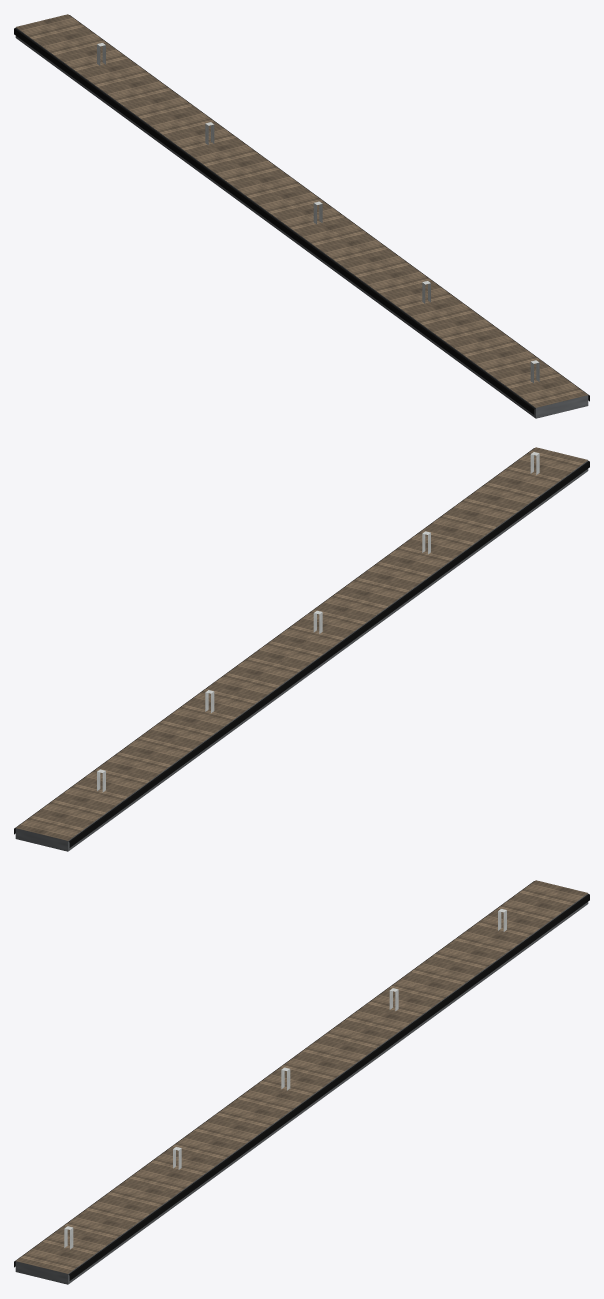
File: SM_Mirabello_Pontile_Col_LOD2.fbx
The picture shows the model from 3 angles, top to bottom: view 1: azimuth 30°, elevation 25°; view 2: azimuth 150°, elevation 25°; view 3: azimuth 330°, elevation 25°; orthographic projection.
Visible parts, largest first — view 1: SM_Mirabello_Pontile_Col_LOD2; view 2: SM_Mirabello_Pontile_Col_LOD2; view 3: SM_Mirabello_Pontile_Col_LOD2.
Boxes of the visible parts, bbox=[...] form: SM_Mirabello_Pontile_Col_LOD2: bbox=[14, 14, 589, 418]; SM_Mirabello_Pontile_Col_LOD2: bbox=[14, 447, 589, 851]; SM_Mirabello_Pontile_Col_LOD2: bbox=[14, 880, 589, 1284].
Bounding box in the file's own units: 296 × 4800 × 155.
Materials: 2 (2 with a texture image).
